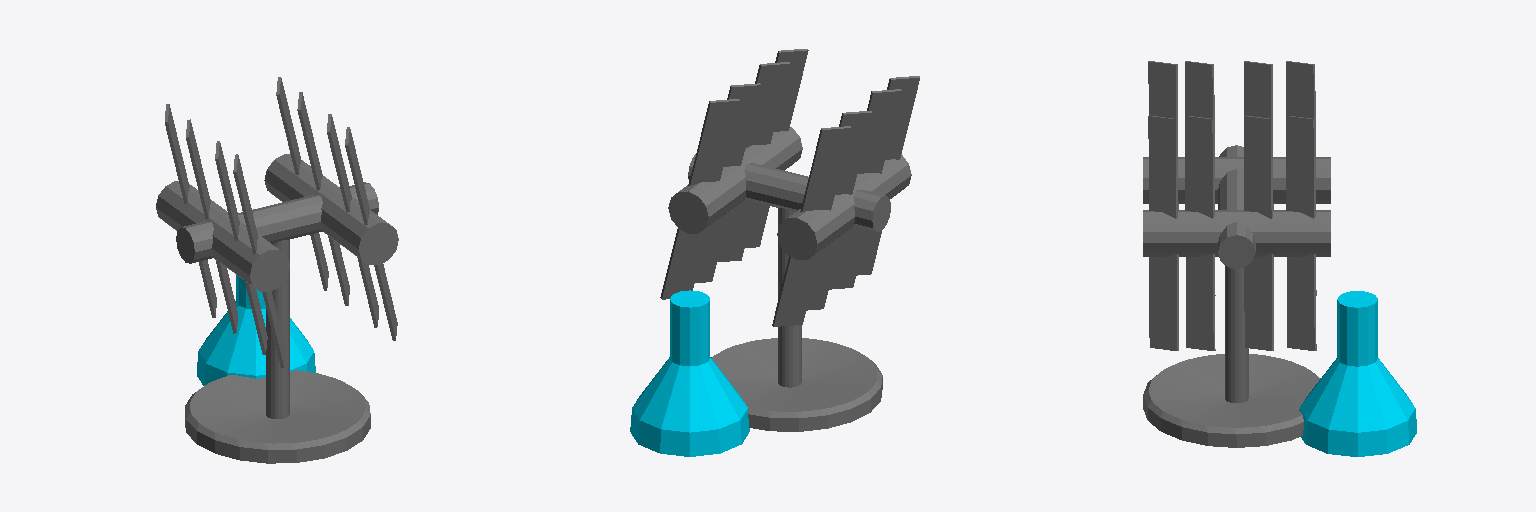
The model's file is sciencestation_colored.obj.
3 views of the same model, side by side, from view 1: azimuth 30°, elevation 25°; view 2: azimuth 150°, elevation 25°; view 3: azimuth 270°, elevation 25° (orthographic).
Parts seen in each view (by area): view 1: polySurface15, polySurface14 polySurface1; view 2: polySurface15, polySurface14 polySurface1; view 3: polySurface15, polySurface14 polySurface1.
Part boxes in pixels (x1,y1,x2,y2): polySurface15: (156,77,398,463); polySurface14 polySurface1: (197,275,315,385); polySurface15: (660,49,919,431); polySurface14 polySurface1: (630,290,749,456); polySurface15: (1143,61,1330,447); polySurface14 polySurface1: (1299,291,1416,456).
Size of the model in its own units: 2.25 by 3.66 by 2.91.